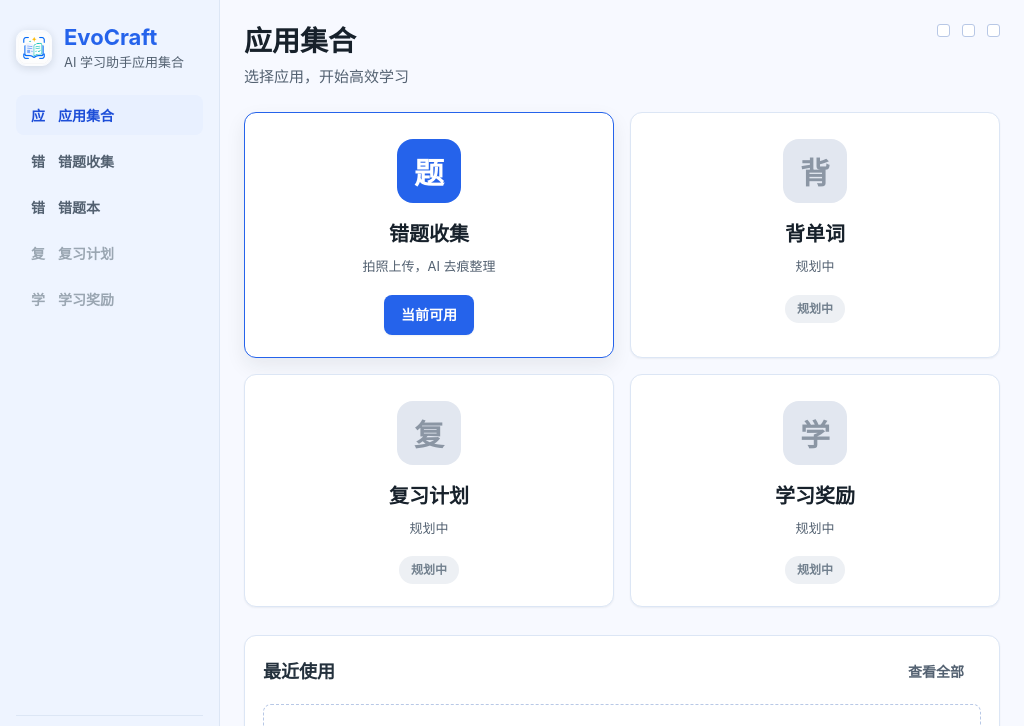
Scenario: App › shows external AI authorization copy when desktop real AI is enabled
Click the button "错 错题收集" at (110, 161), box [16, 141, 203, 181]
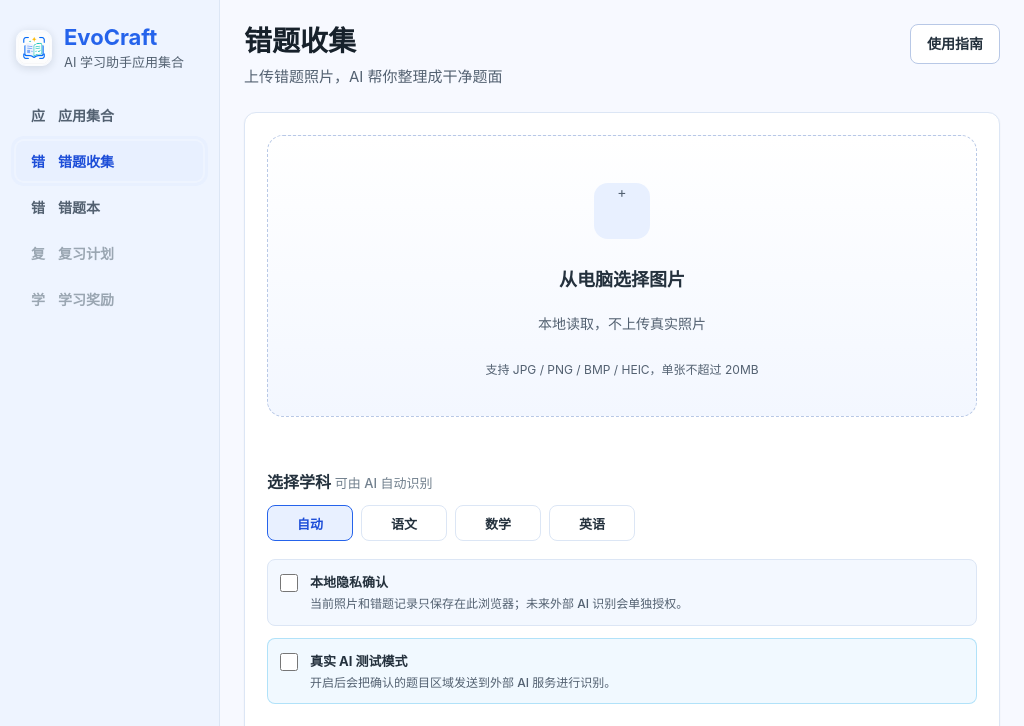
Result: the text "真实 AI 测试模式" is shown at [310, 653, 408, 669]
Result: the text "开启后会把确认的题目区域发送到外部 AI 服务进行识别。" is shown at [310, 675, 616, 690]
